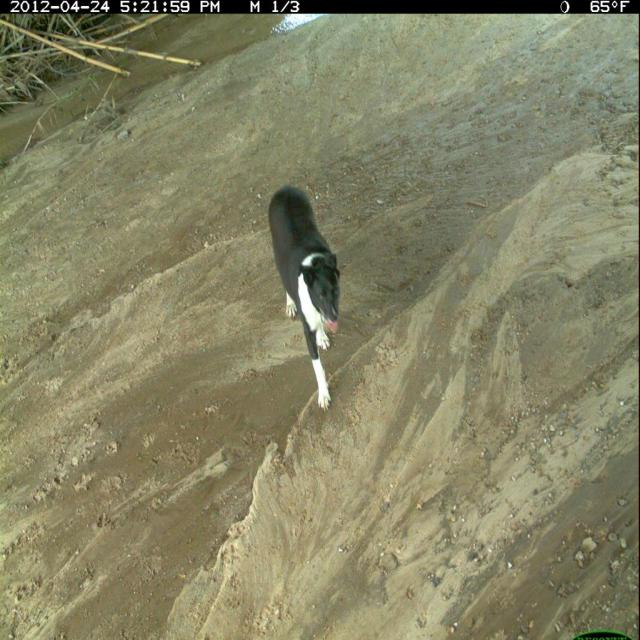dog: (268, 181, 346, 412)
